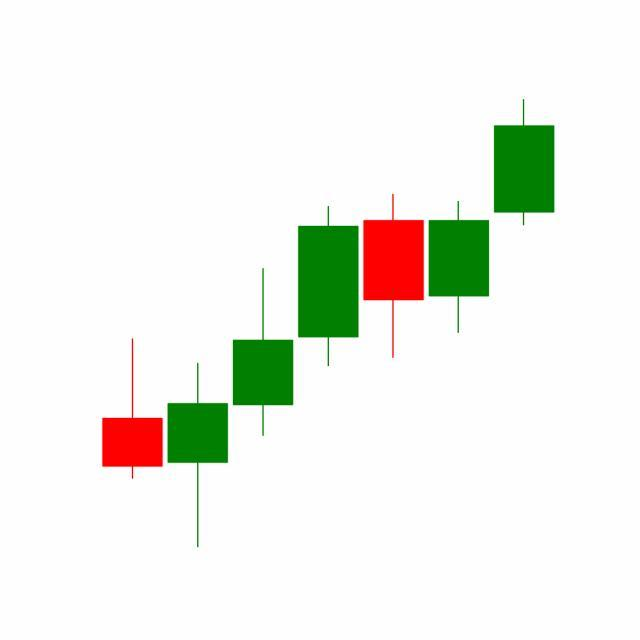Hikkake Pattern: (229, 100, 555, 442)
